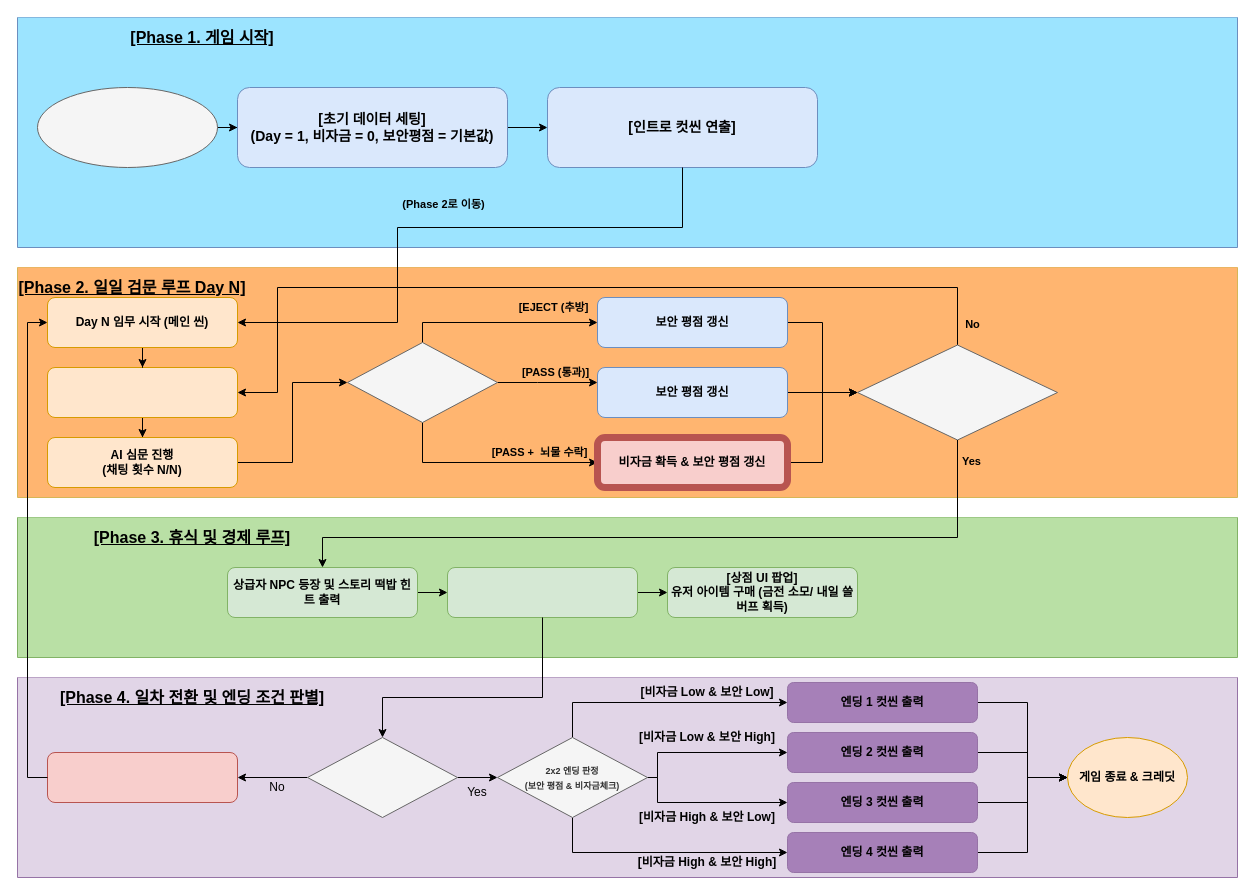
This 1255x895 diagram has some shape labels left out. The centre of each missing label's shape, as x and y in pixels:
[NPC 스폰 및 서류 제시]: point (142, 392)
[일일 정산 및 평점 연산 후 저장] 기본급 + 비자금 + 잔액 - 벌금: point (542, 592)
Day = Day + 1처리: point (142, 777)
게임 시작 (Game Start): point (127, 127)
오늘 할당량(N명)을 채웠는가?: point (957, 392)
유저의 판정: point (422, 382)
최종 일차에 도달 했는가: point (382, 777)
